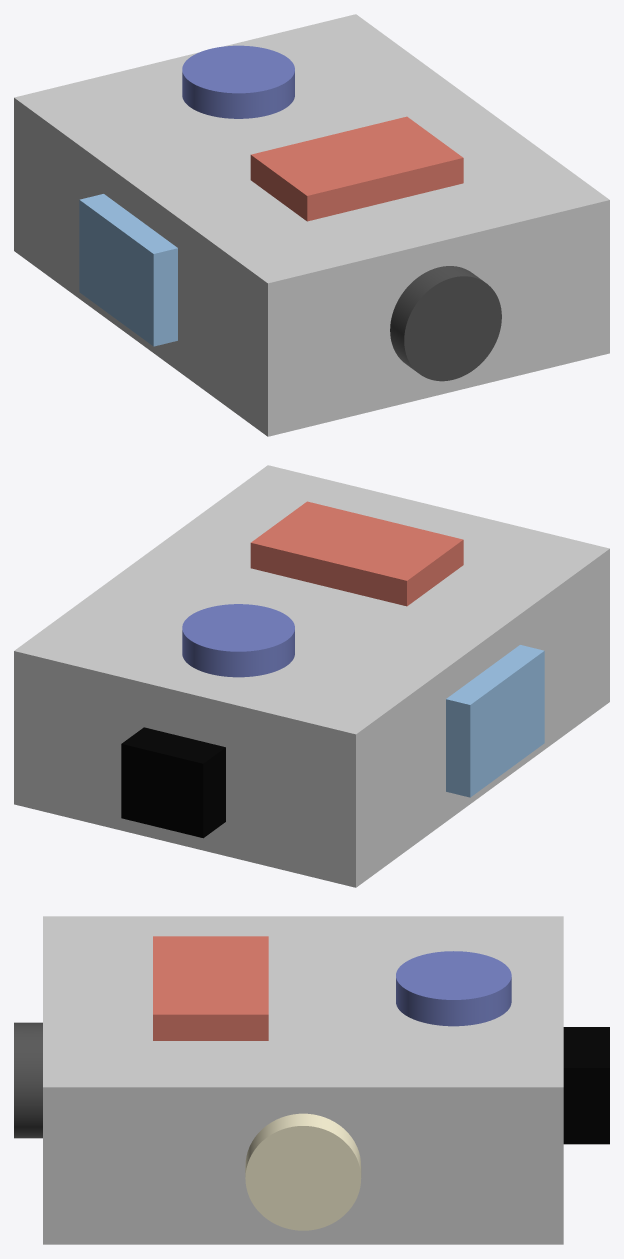
The model's file is BaseBox.glb.
3 renders of one model, top to bottom at view 1: azimuth 30°, elevation 25°; view 2: azimuth 150°, elevation 25°; view 3: azimuth 270°, elevation 25°, orthographic. The views are drawn at different scales.
Visible parts, largest first — view 1: BaseBox_node, Body1_node, Body1_node_1, Body1_node_2, Body1; view 2: BaseBox_node, Body1_node, Body1_node_1, Body1_node_3, Body1; view 3: BaseBox_node, Body1_node, Body1_node_0, Body1, Body1_node_3, Body1_node_2.
Part boxes in pixels (x1,y1,x2,y2): BaseBox_node: (14,14,609,436); Body1_node: (250,116,463,221); Body1_node_1: (79,194,177,346); Body1_node_2: (390,266,501,381); Body1: (182,45,294,118); BaseBox_node: (14,465,609,887); Body1_node: (250,501,463,606); Body1_node_1: (446,645,544,797); Body1_node_3: (121,727,225,838); Body1: (182,604,294,677); BaseBox_node: (43,916,563,1244); Body1_node: (153,936,268,1040); Body1_node_0: (245,1113,361,1230); Body1: (396,951,511,1026); Body1_node_3: (563,1027,609,1144); Body1_node_2: (14,1022,42,1138).
Size of the model in its own units: 400 by 195 by 515.
